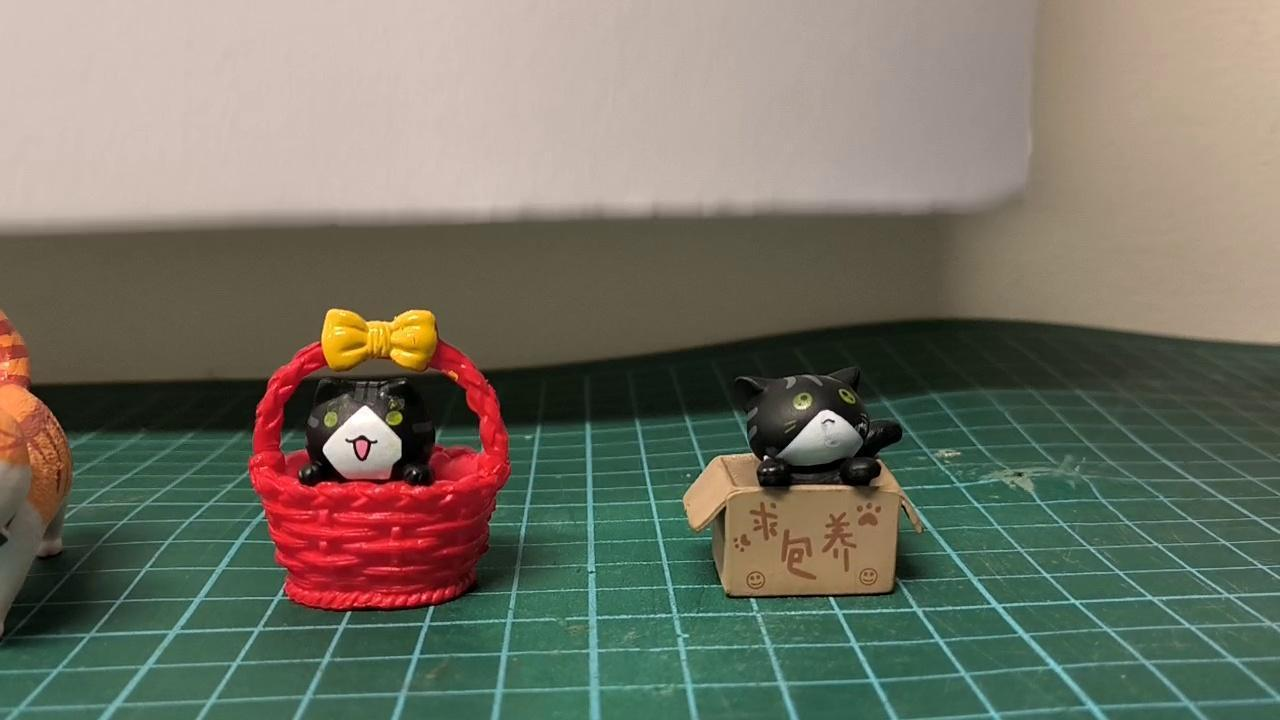pet: (723, 366, 903, 490), (296, 371, 439, 490)
